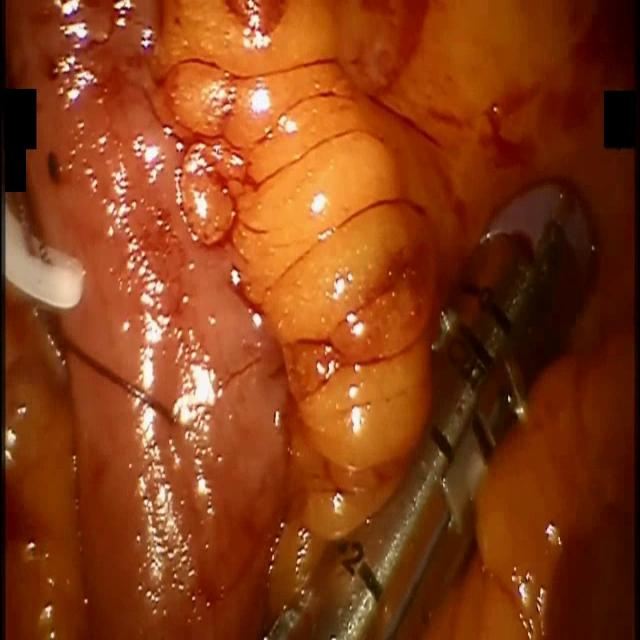surgical-area: (0, 0, 636, 639)
surgical-tool: (260, 171, 600, 639)
